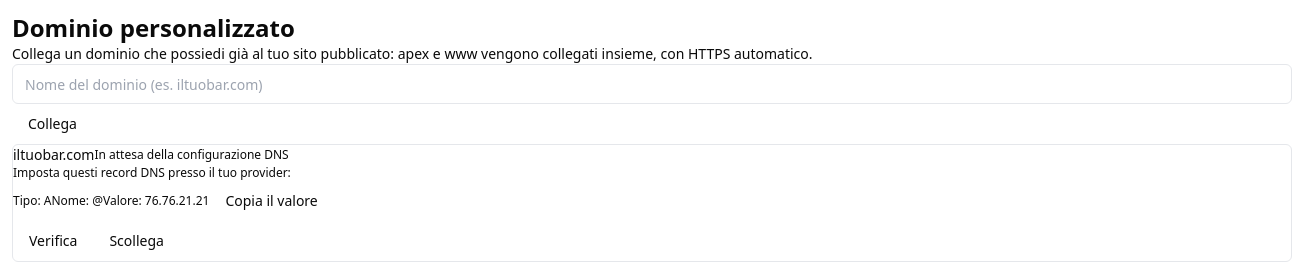
DOM-501 DomainSection — stato, istruzioni DNS, azioni › Pro con collegamento "pending": Verifica invoca POST /verify e lo stato riflette l’esito
Expected: the text "In attesa della configurazione DNS" is shown, [94,147,289,163]
Click the button "Verifica" at (53, 241), box [13,221,93,261]
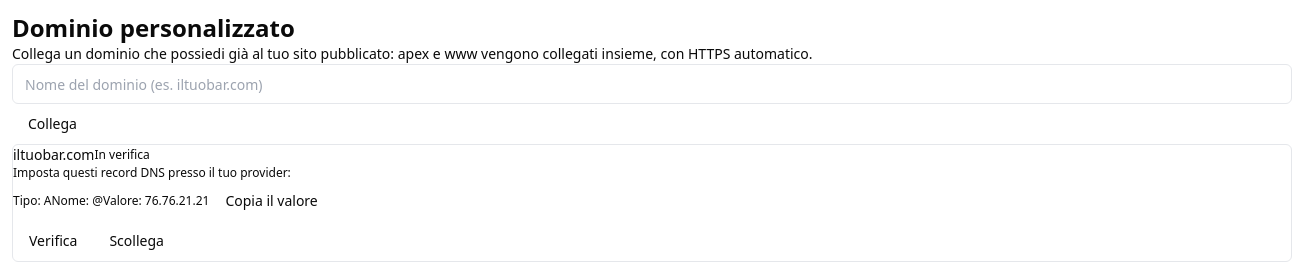
Expected: the text "In verifica" is shown, [94,147,150,163]
Expected: the text "In attesa della configurazione DNS" is gone
